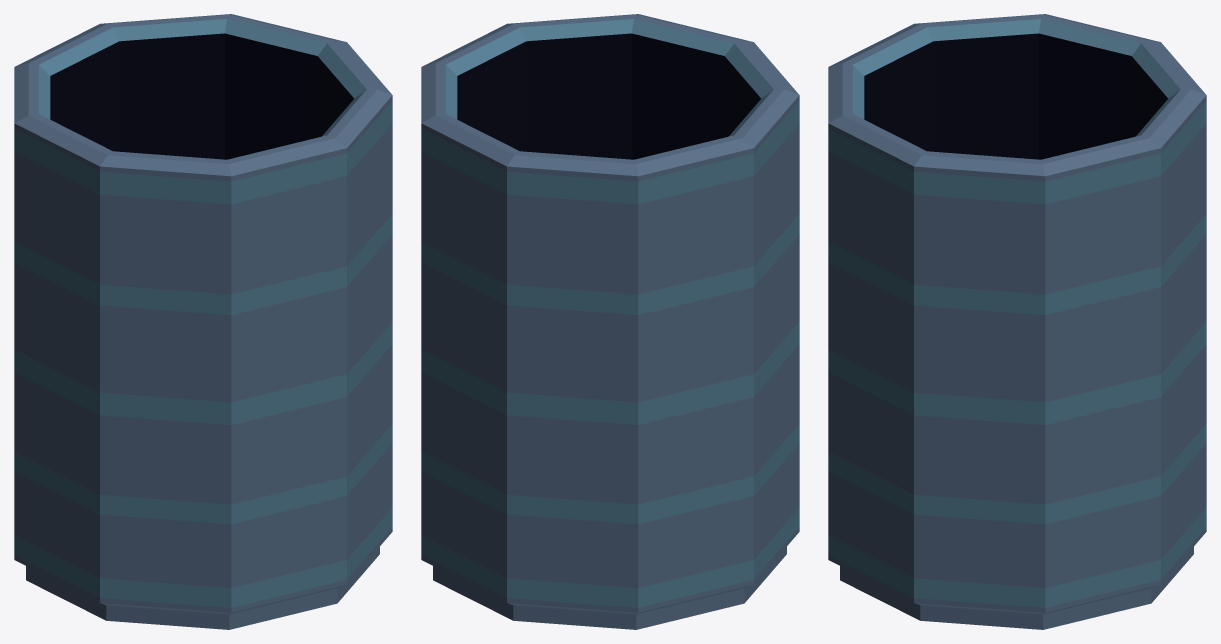
The model's file is Can.Empty.fbx.
The picture shows the model from 3 angles, left to right: view 1: azimuth 30°, elevation 25°; view 2: azimuth 150°, elevation 25°; view 3: azimuth 270°, elevation 25°; orthographic projection.
Visible parts, largest first — view 1: Can.Empty; view 2: Can.Empty; view 3: Can.Empty.
Part boxes in pixels (left/top/right/bottom): Can.Empty: left=14, top=14, right=392, bottom=629; Can.Empty: left=421, top=14, right=799, bottom=629; Can.Empty: left=828, top=14, right=1206, bottom=629.
Bounding box in the file's own units: 63.23 × 84.4 × 62.26.
